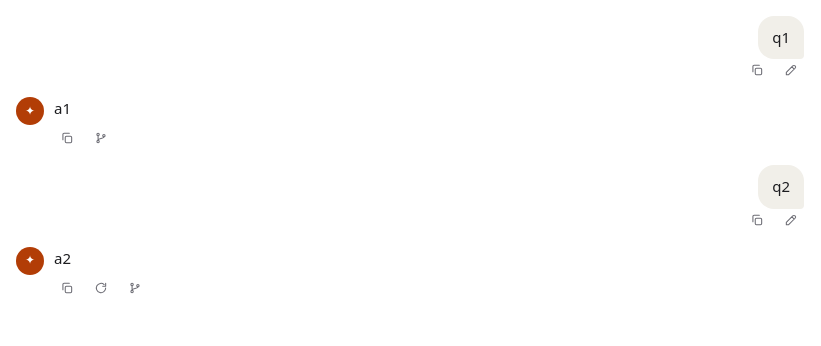
Test: editing a question › closes the editor when an answer starts running
Click the button named "Edit and resend" below "q1" at (791, 70), box [778, 61, 804, 79]
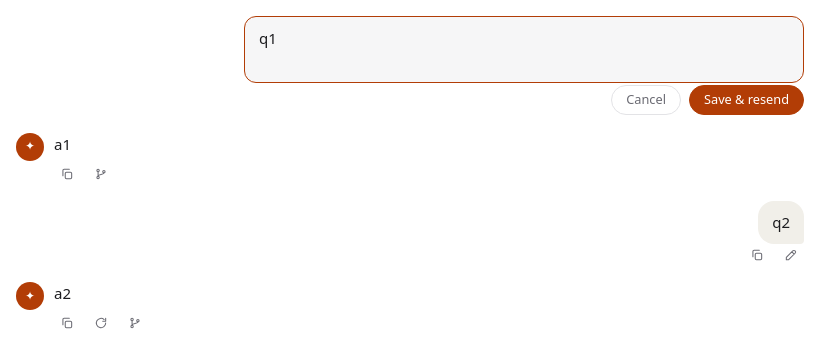
Check: the text box named "Edit your question" is shown, box [244, 16, 804, 83]
